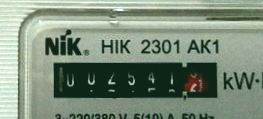0: (63, 66, 77, 87), (84, 64, 97, 85)
1: (165, 63, 177, 86)
2: (104, 64, 119, 86)
4: (145, 63, 157, 84)
5: (124, 64, 138, 87)
6: (187, 79, 198, 91)
screen: (40, 50, 230, 106)
